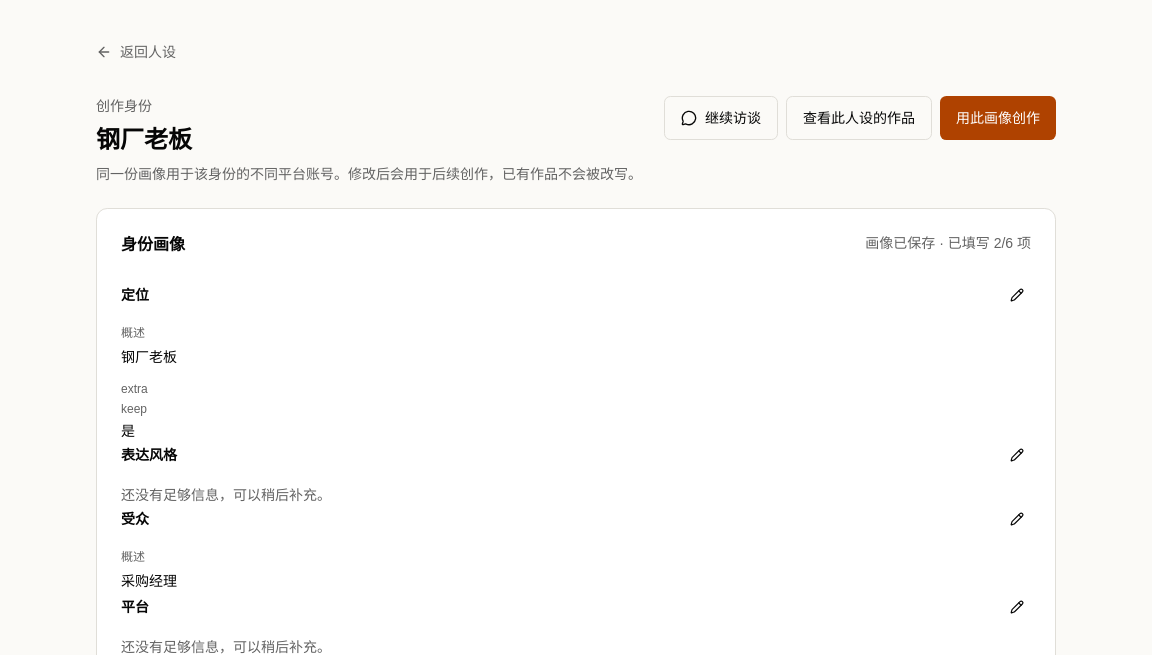
Test case: portrait detail › keeps edits after a conflict and does not silently retry against a newer revision
Click the button named "修改定位" at (1017, 295), box [1003,281,1031,309]
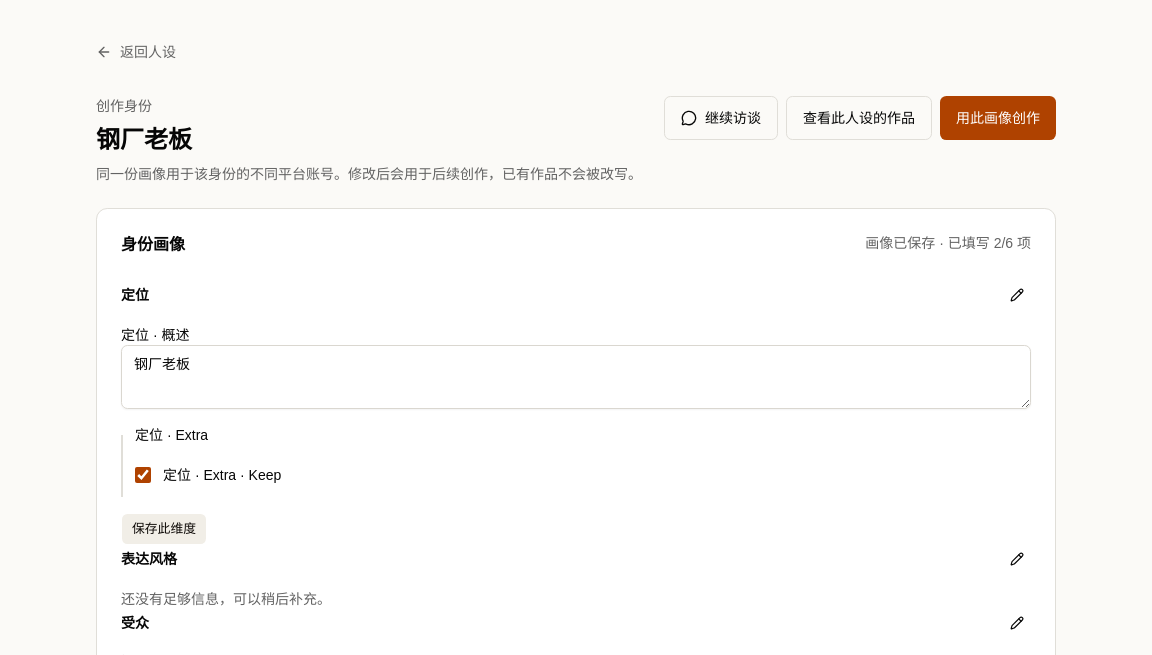
Replace the text in the text box labelled "定位 · 概述" with "保留我的修改" at (576, 377), box [121,345,1031,409]
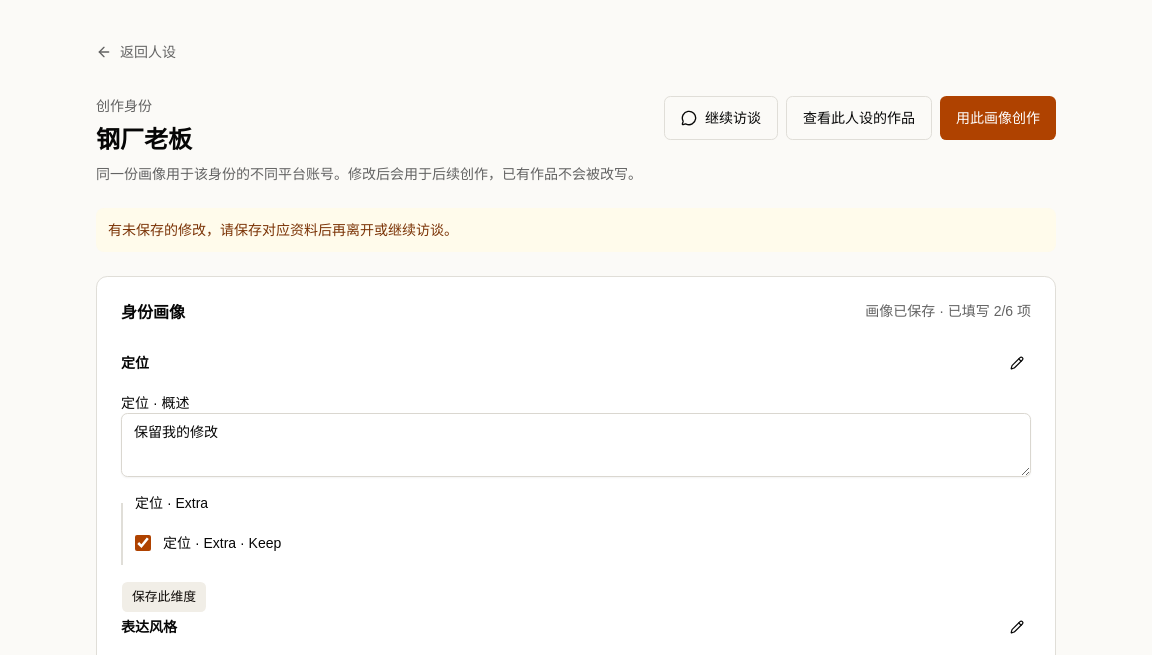
Click the button "保存此维度" at (164, 597), box [121,581,207,613]
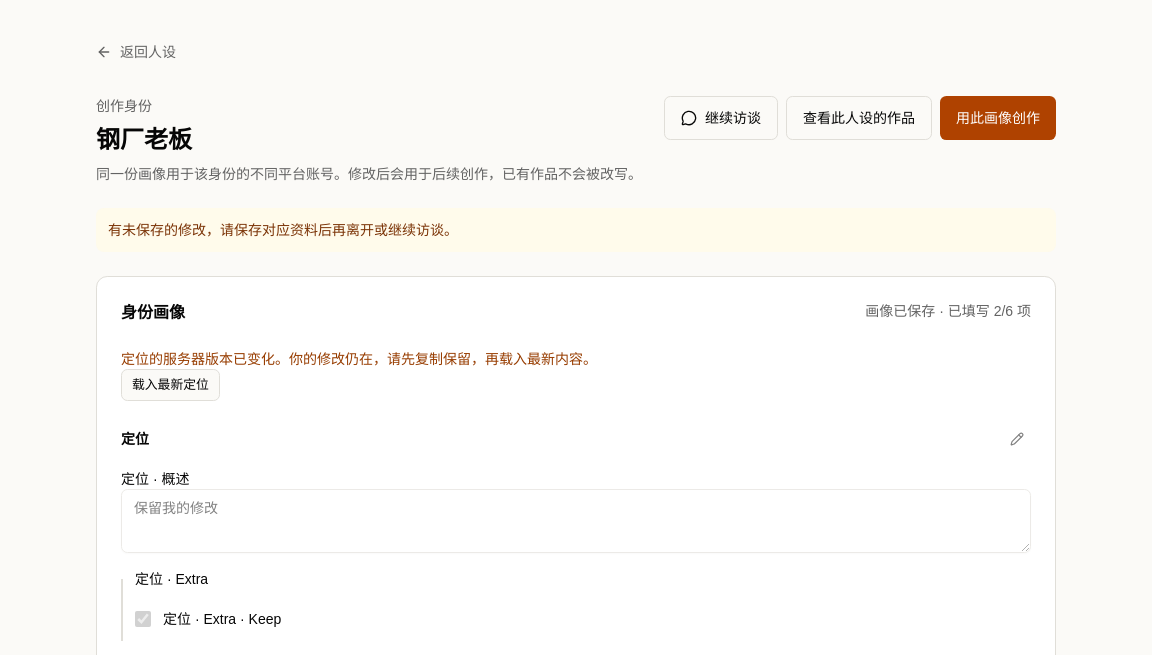
Expected: the text "服务器版本已变化" is shown, [149,351,597,367]
